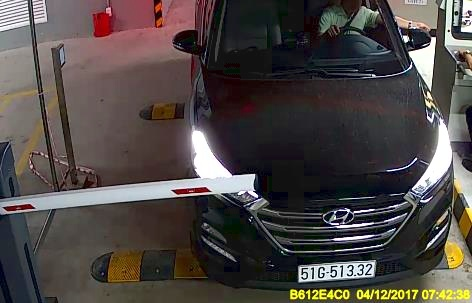plate: (292, 257, 378, 281)
